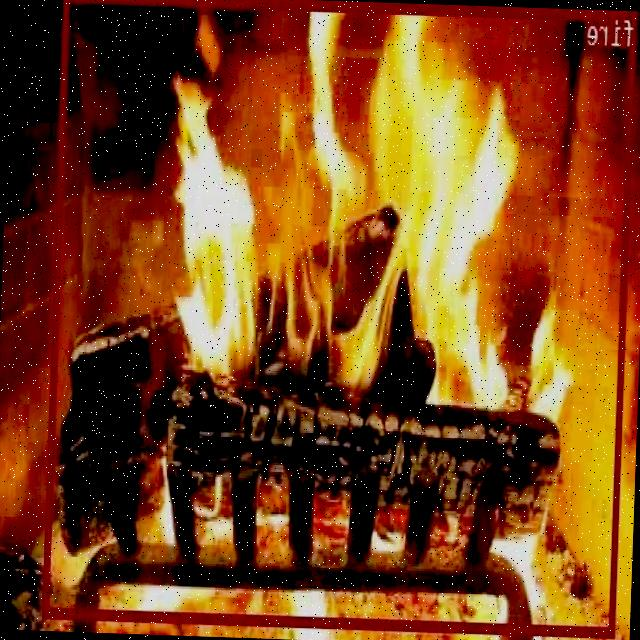fire: (44, 0, 637, 634)
